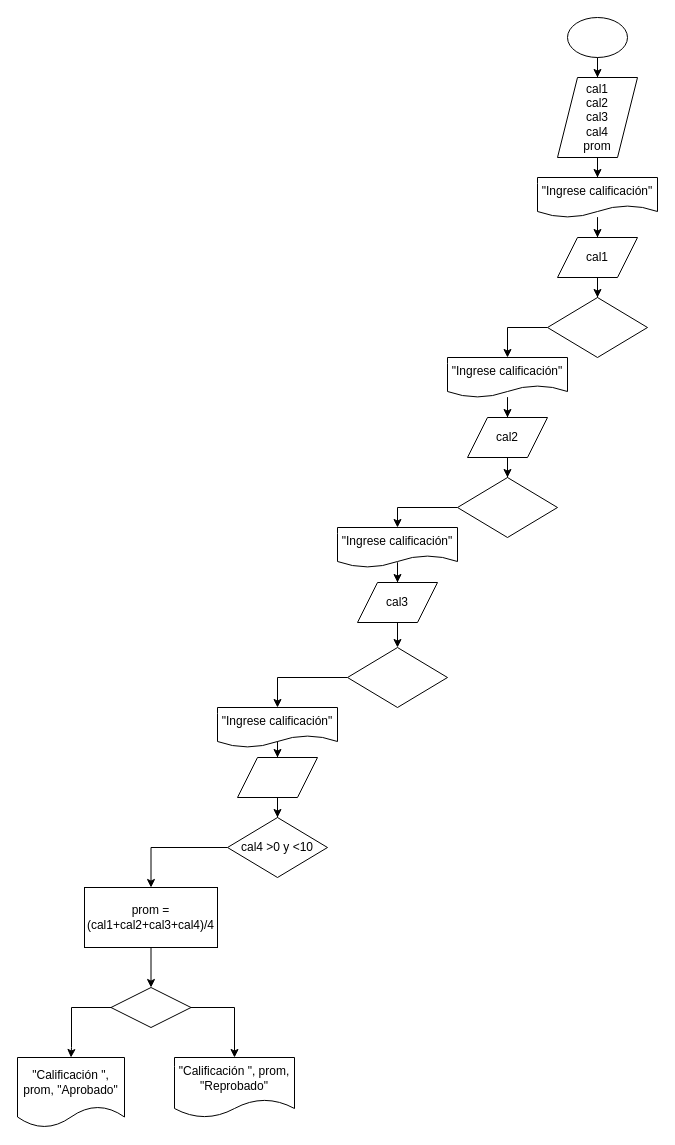
Some shapes in this 675 by 1145 pixel diagram are drawn without their labels. Here are the shapes that lost their labels. From the top down, the centre of each, then its label:
At (x=597, y=37): "inicio".
At (x=597, y=327): "cal1 >0 y <10".
At (x=507, y=507): "cal2 >0 y <10".
At (x=397, y=677): "cal3 >0 y <10".
At (x=277, y=777): "cal4".
At (x=150, y=1007): "prom > 6".
